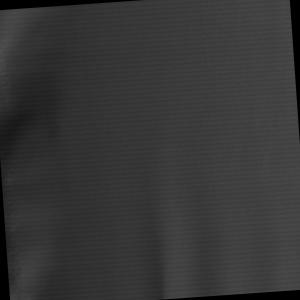Wrinkle: (124, 118, 292, 300), (1, 6, 91, 300)
